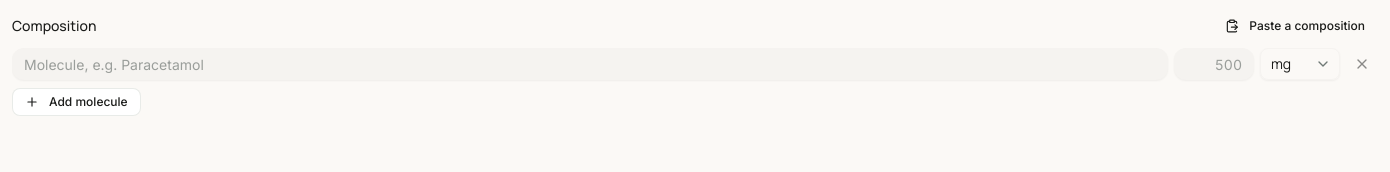
Test case: the molecule box › still accepts a molecule that is not on the list
In the field named "Molecule 1": (590, 64) [12,48,1168,80], type "Zyxomorphine"
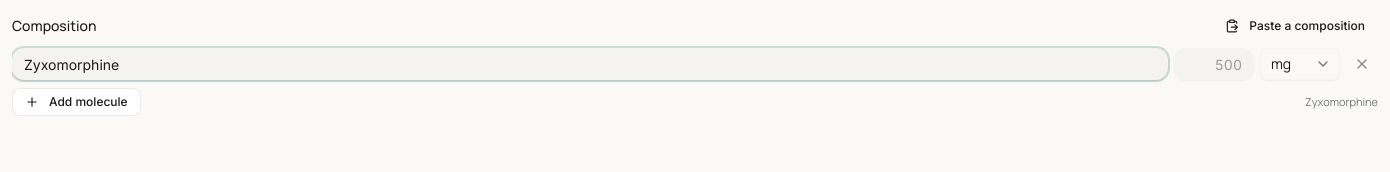
expect the text "Zyxomorphine" is shown: met, box [1305,94,1378,110]
